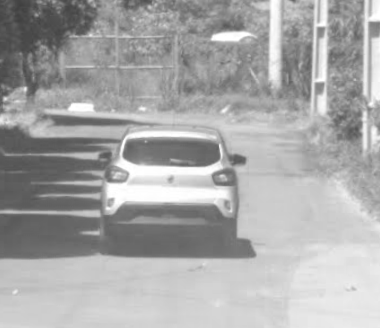car: (93, 105, 251, 254)
